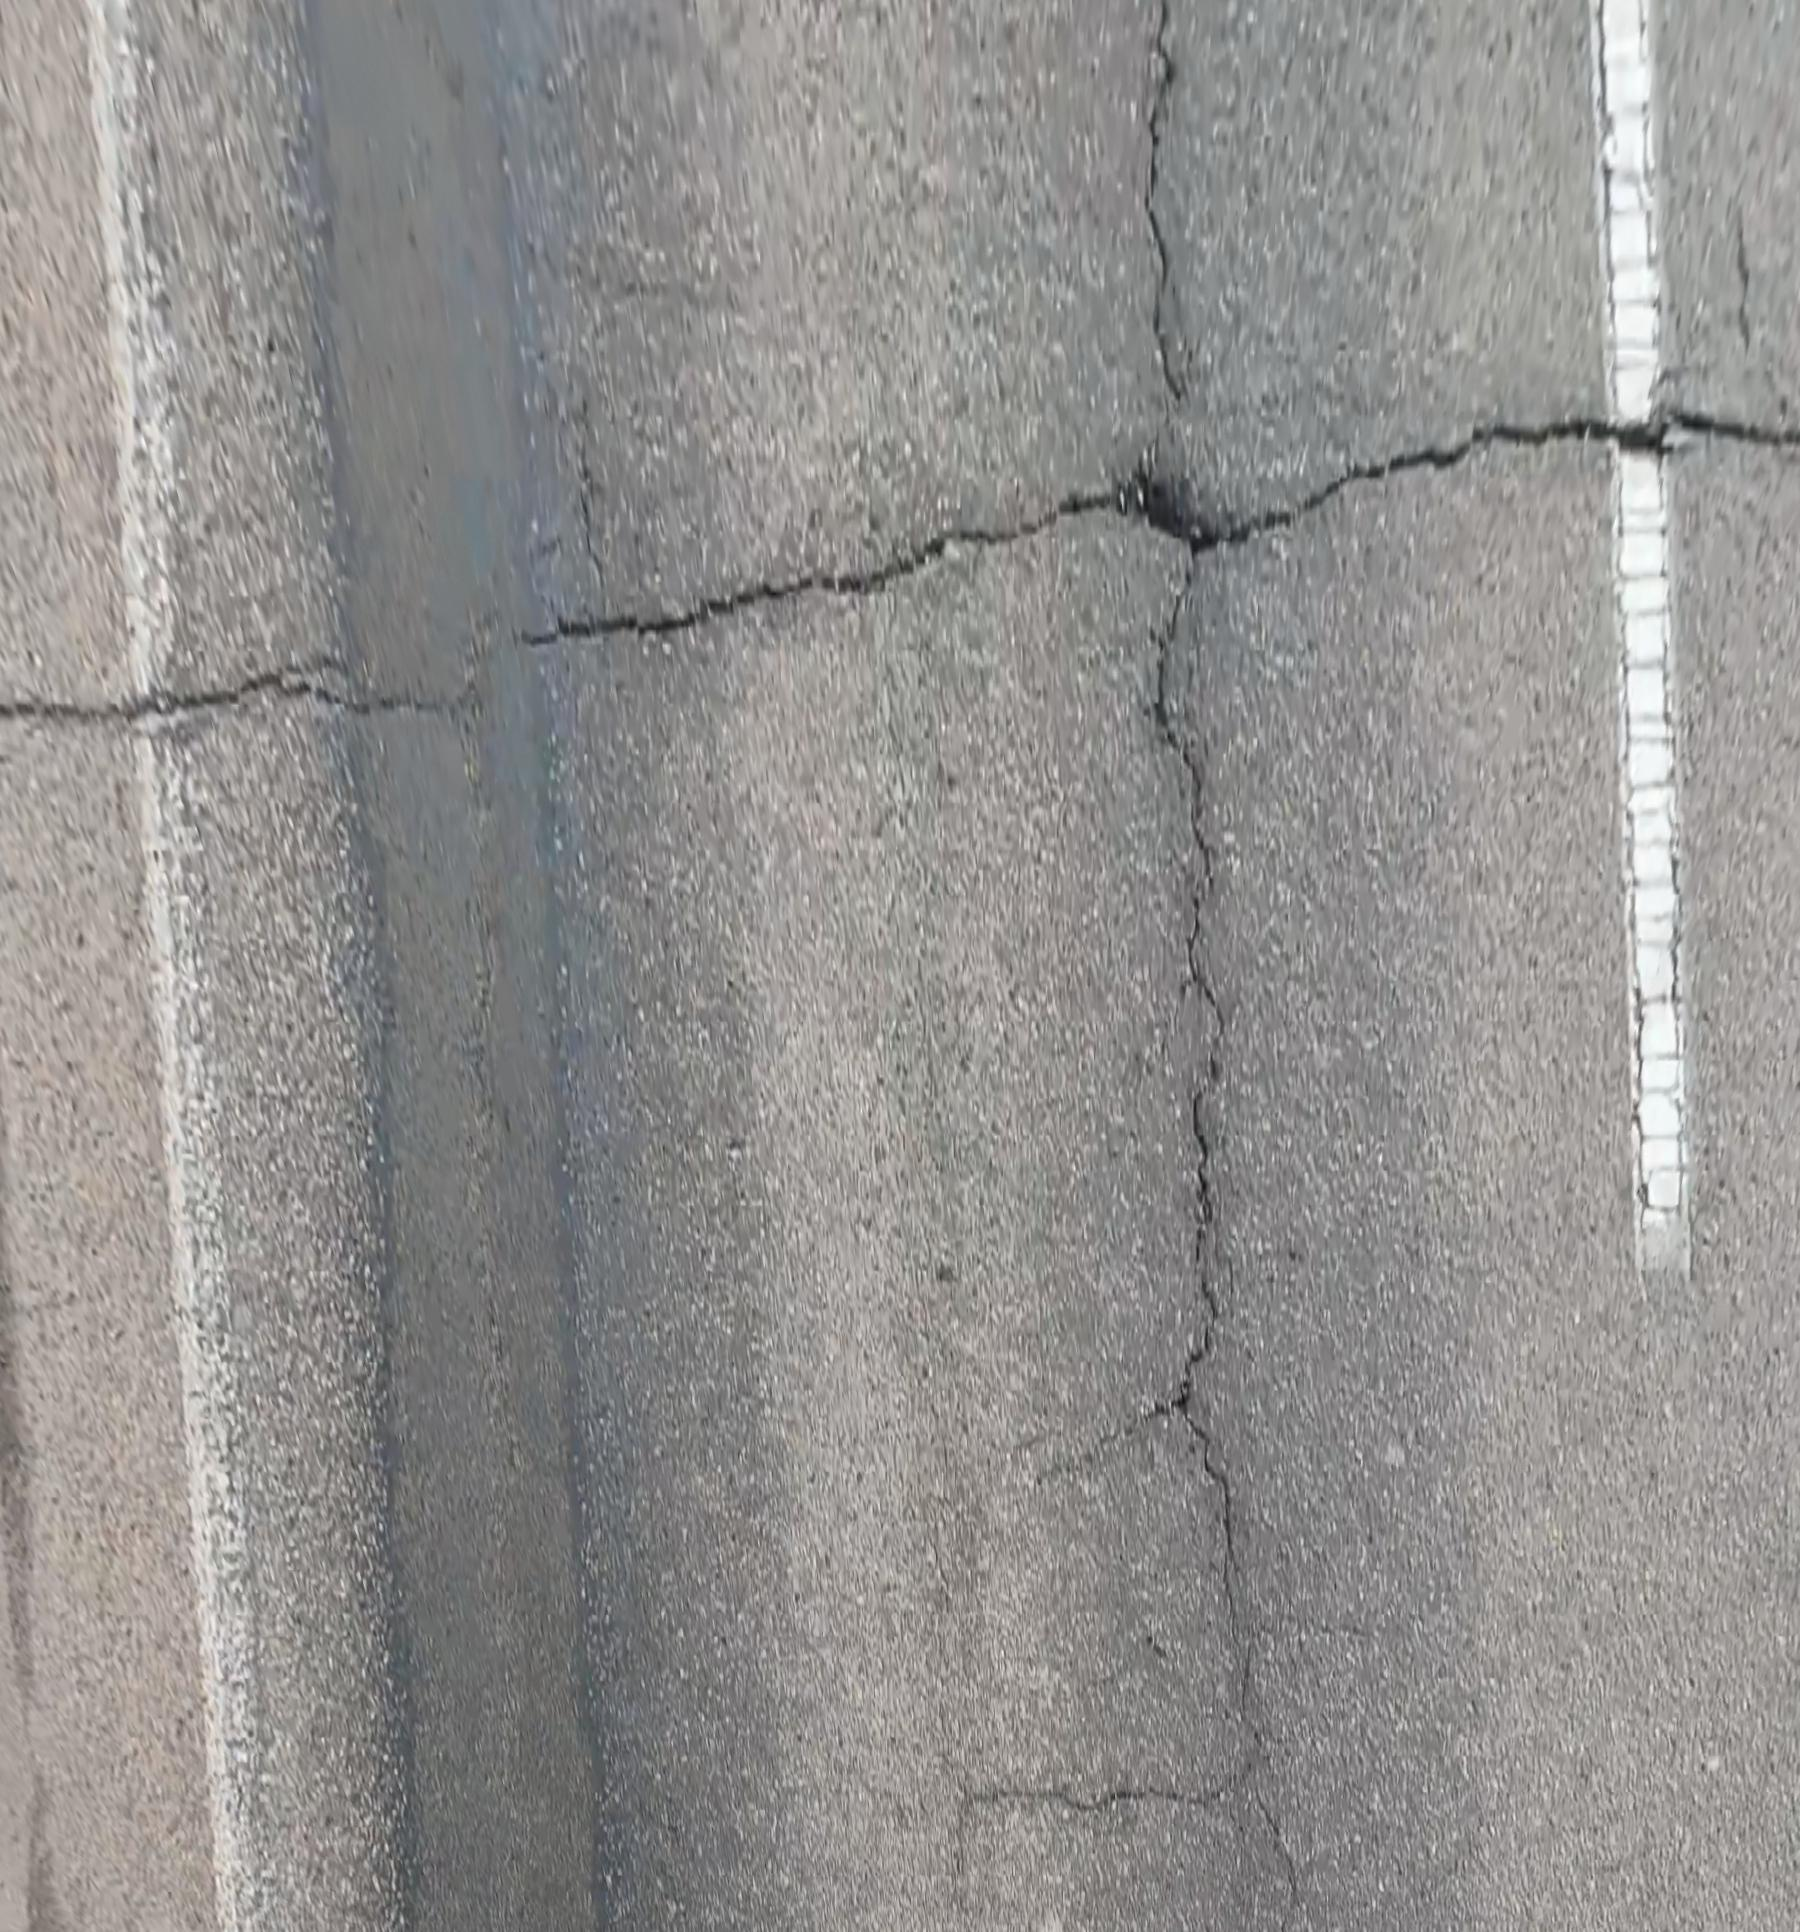pothole: (1122, 465, 1237, 546)
pothole_patch_good: (303, 0, 599, 1932)
